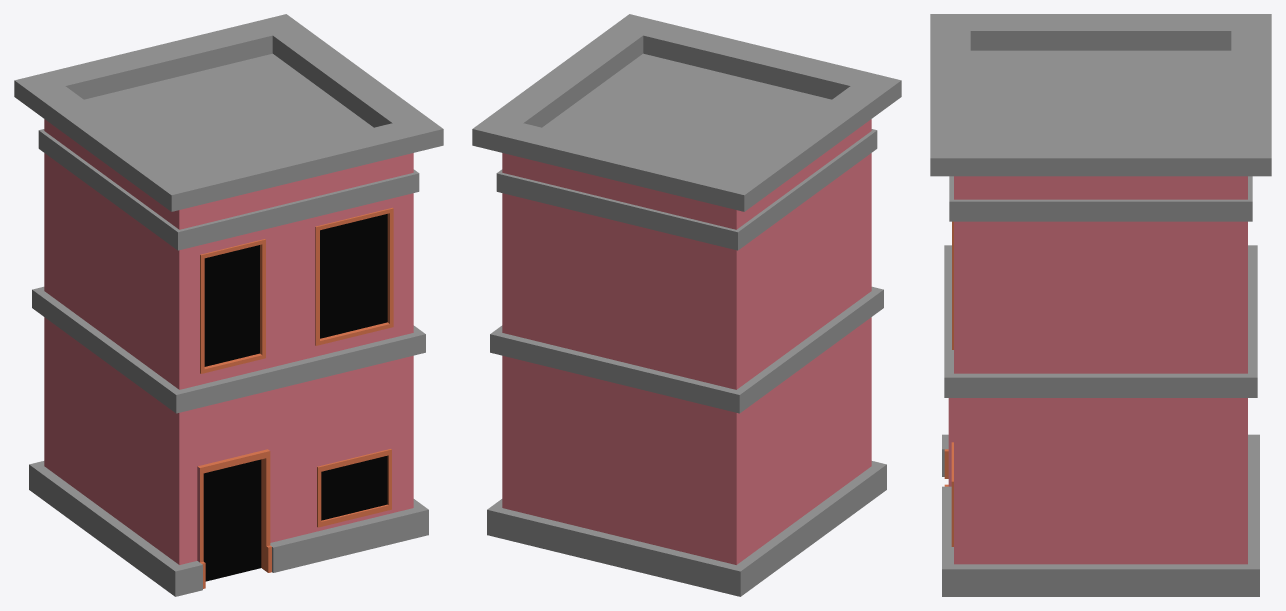
The model's file is house2.fbx.
3 views of the same model, side by side, from view 1: azimuth 30°, elevation 25°; view 2: azimuth 150°, elevation 25°; view 3: azimuth 270°, elevation 25° (orthographic). The views are drawn at different scales.
Parts seen in each view (by area): view 1: house2; view 2: house2; view 3: house2.
Boxes of the visible parts, <box> form: house2: <box>14,14,443,596</box>; house2: <box>472,14,901,596</box>; house2: <box>930,14,1271,596</box>.
Size of the model in its own units: 5.8 by 8.32 by 5.8.
